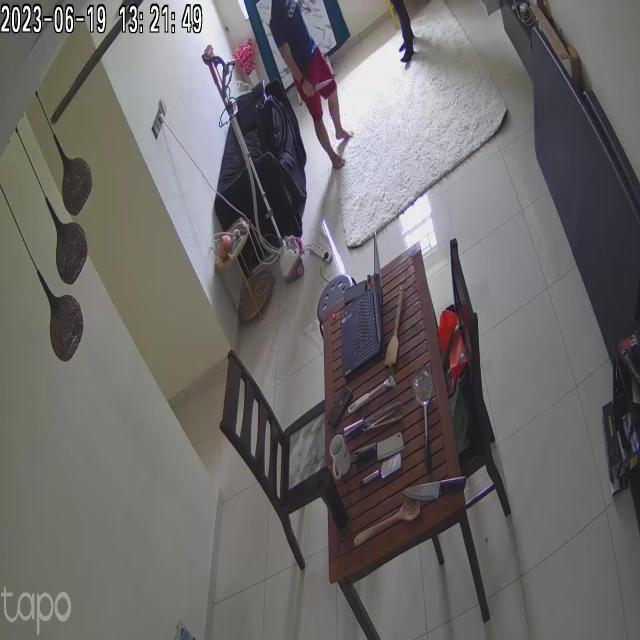Knife: (300, 69, 341, 109)
